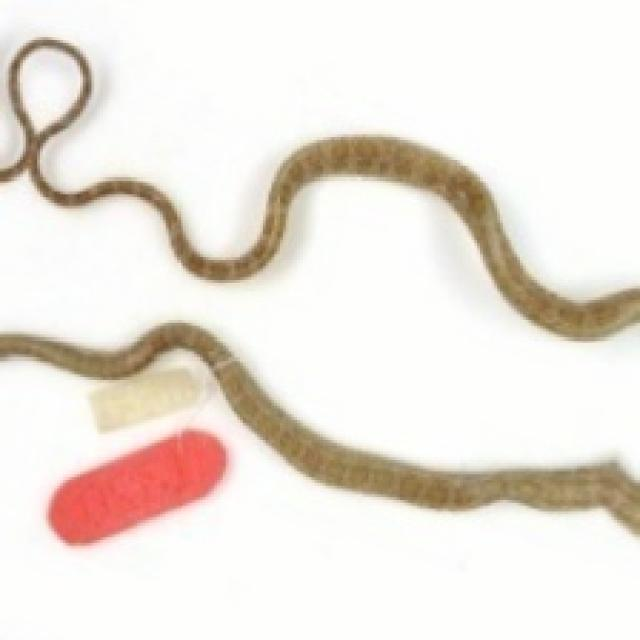mullers wolf snake: (0, 37, 637, 337), (0, 323, 637, 531), (49, 431, 223, 540)
